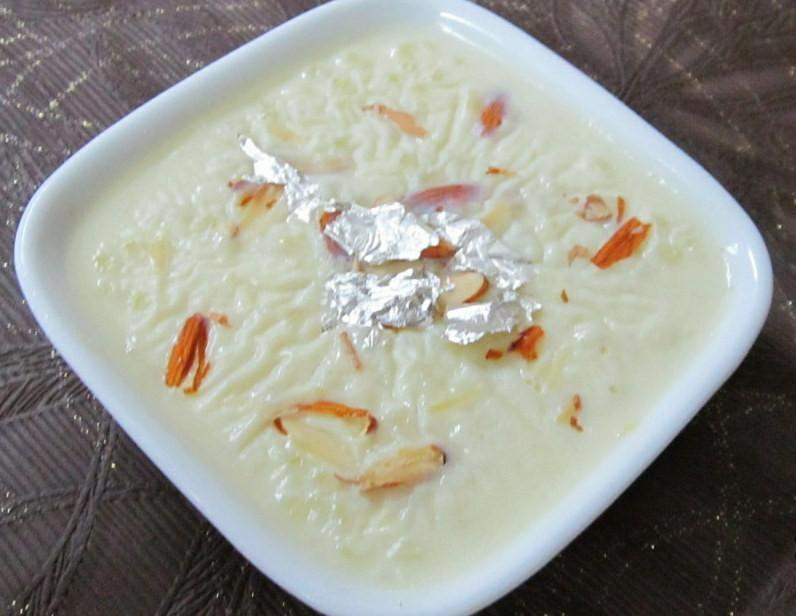Kheer: (65, 27, 730, 576)
